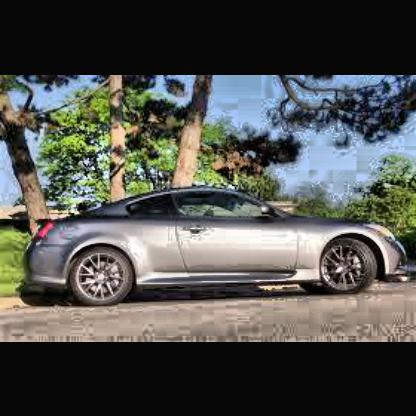Infiniti G Coupe IPL 2012: (26, 187, 415, 310)
